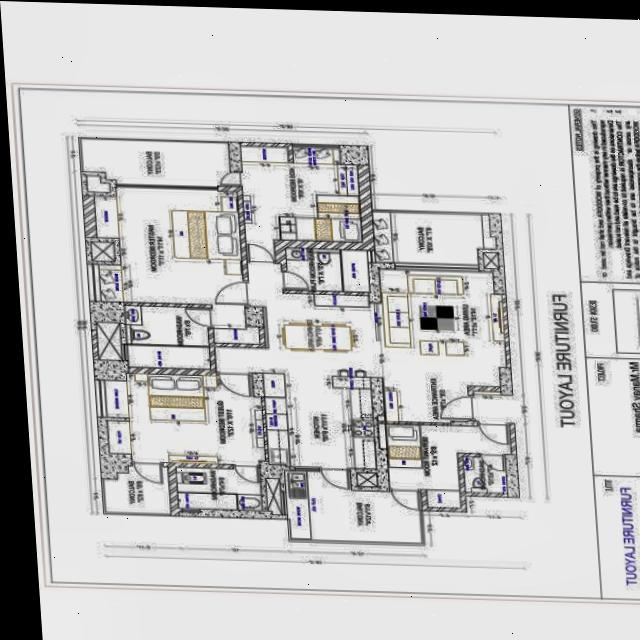room: (91, 185, 249, 305), (80, 138, 231, 187)
